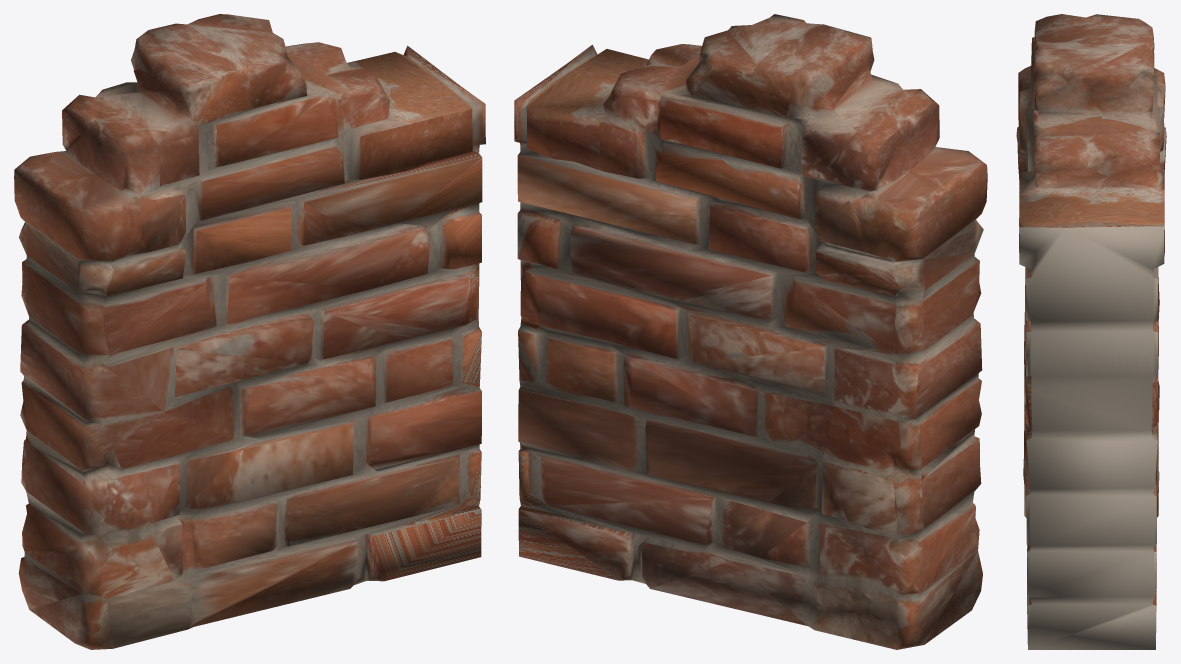
The model's file is broken-red-brick-wall-end-left.glb.
3 renders of one model, left to right at view 1: azimuth 30°, elevation 25°; view 2: azimuth 150°, elevation 25°; view 3: azimuth 270°, elevation 25°, orthographic. The views are drawn at different scales.
Visible parts, largest first — view 1: broken-red-brick-wall-end-left; view 2: broken-red-brick-wall-end-left; view 3: broken-red-brick-wall-end-left.
Boxes of the visible parts, x1,y1,x2,y2 form: broken-red-brick-wall-end-left: [14, 14, 485, 649]; broken-red-brick-wall-end-left: [514, 14, 987, 649]; broken-red-brick-wall-end-left: [1016, 14, 1166, 649].
Bounding box in the file's own units: 0.9491 × 1.25 × 0.336.
Materials: 2 (1 with a texture image).
